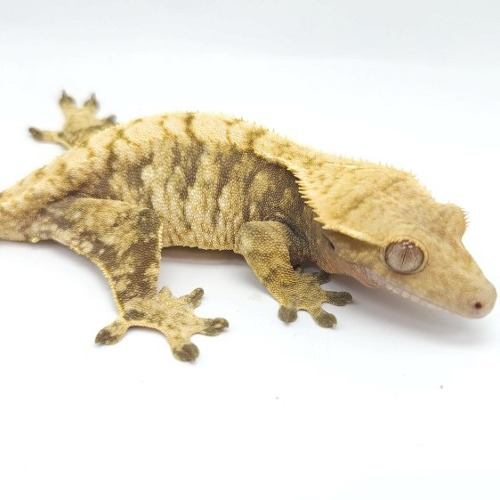analyzer_lateral: (20, 148, 313, 254)
